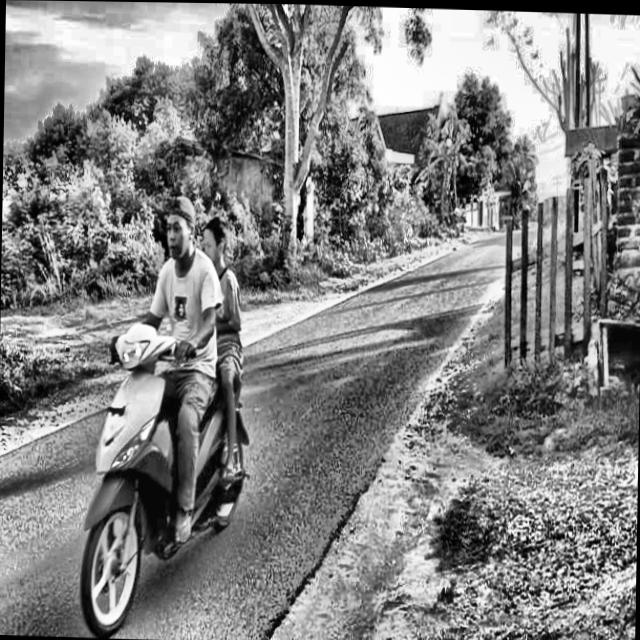motorcycle: (70, 317, 254, 640)
